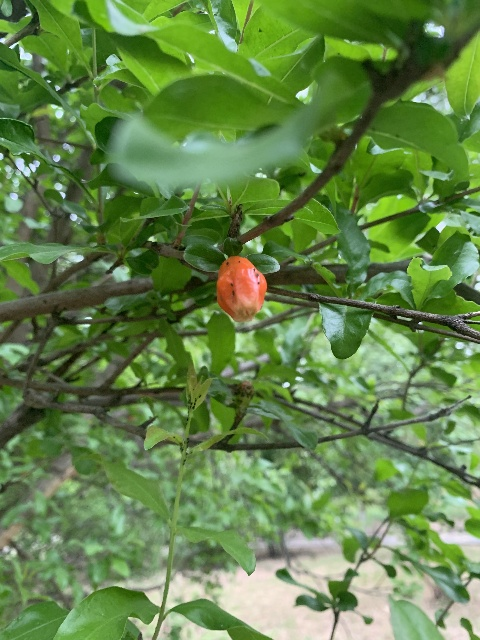bud: (216, 255, 266, 323)
